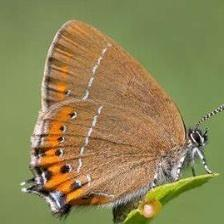butterfly: (23, 20, 207, 220)
